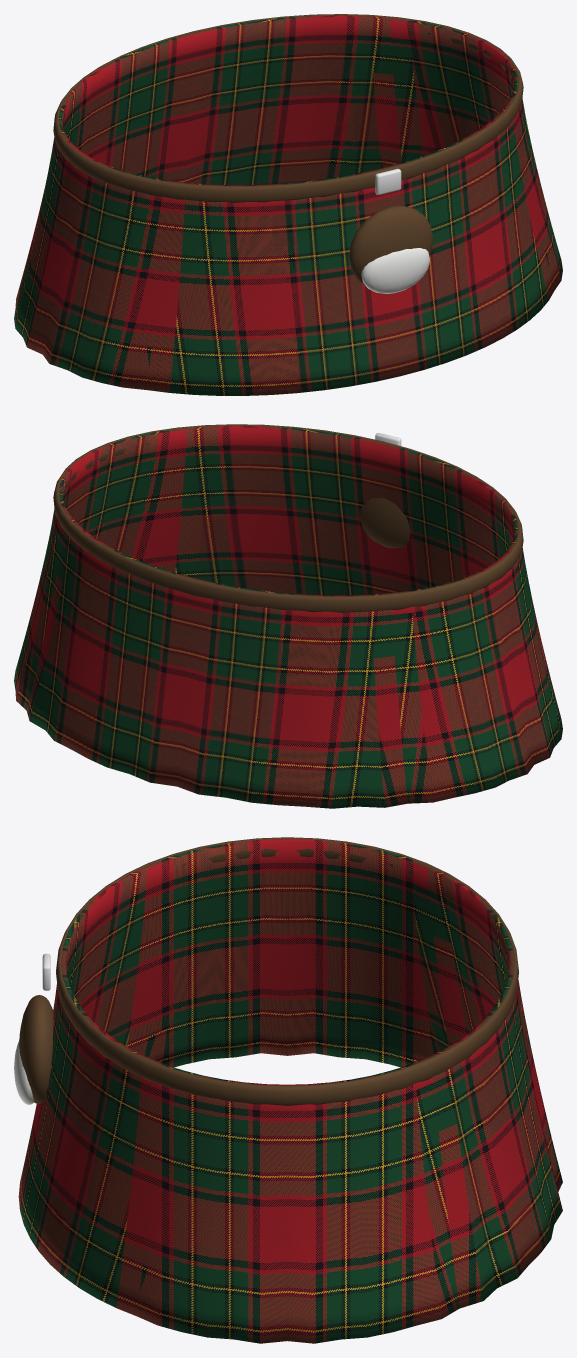
The model's file is kilt1.fbx.
3 renders of one model, top to bottom at view 1: azimuth 30°, elevation 25°; view 2: azimuth 150°, elevation 25°; view 3: azimuth 270°, elevation 25°, orthographic. The views are drawn at different scales.
Parts seen in each view (by area): view 1: kilt1; view 2: kilt1; view 3: kilt1.
Part boxes in pixels (x1,y1,x2,y2): kilt1: (14,14,562,395); kilt1: (14,424,562,808); kilt1: (14,837,562,1343).
Size of the model in its own units: 1.02 by 0.385 by 0.8049.
4 materials, 1 textured.
